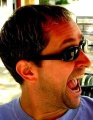male: (4, 6, 91, 111)
